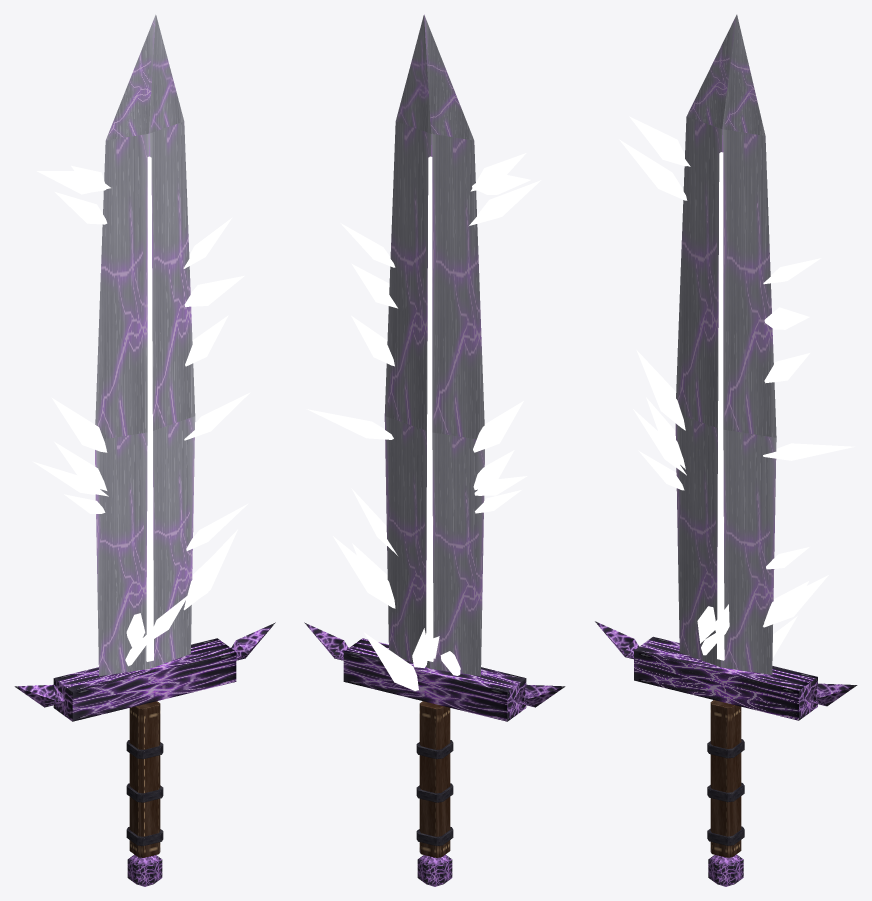
Rendered from BlightGreatsword.fbx.
3 views of the same model, side by side, from view 1: azimuth 30°, elevation 25°; view 2: azimuth 150°, elevation 25°; view 3: azimuth 330°, elevation 25° (orthographic).
Visible parts, largest first — view 1: Blade, Glow, Guard, Handle, Pommel; view 2: Blade, Glow, Guard, Handle, Pommel; view 3: Blade, Glow, Guard, Handle, Pommel.
Boxes of the visible parts, x1,y1,x2,y2 form: Blade: (95,14,195,676); Glow: (32,156,250,666); Guard: (14,622,275,721); Handle: (126,701,163,857); Pommel: (127,854,162,886); Blade: (384,14,484,676); Glow: (306,153,541,690); Guard: (304,622,565,721); Handle: (416,701,453,857); Pommel: (417,854,452,886); Blade: (675,14,776,674); Glow: (619,116,854,660); Guard: (595,621,857,720); Handle: (707,700,744,857); Pommel: (708,854,743,886).
Bounding box in the file's own units: 239 × 761 × 73.25.
2 materials, 1 textured.
